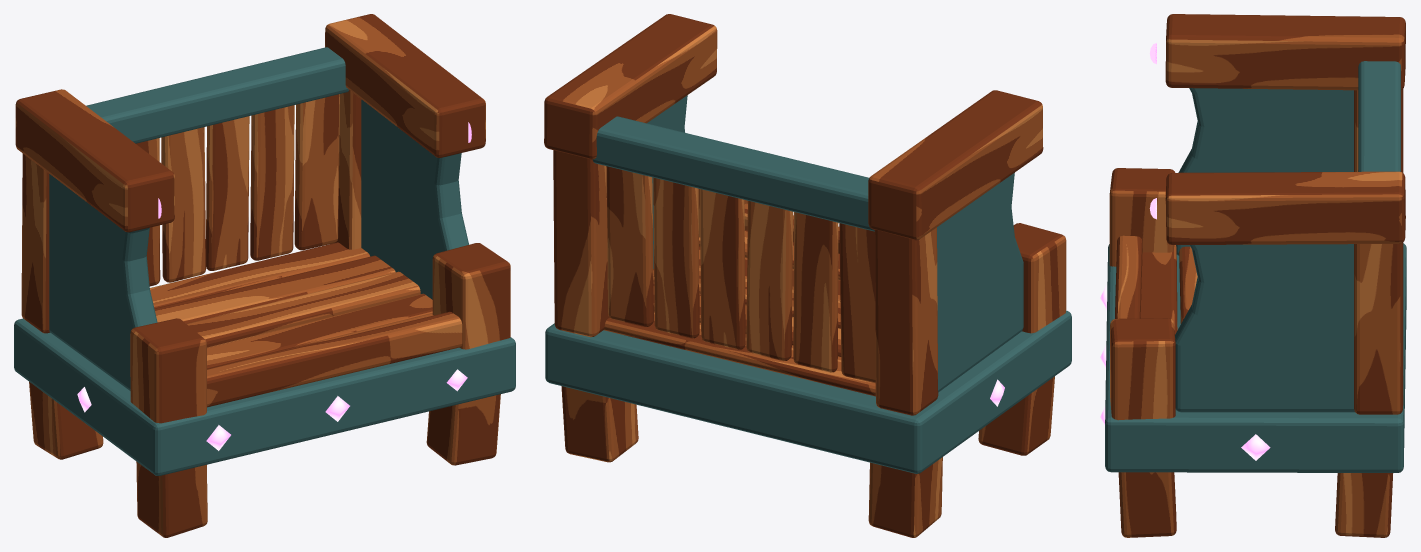
Rendered from prop_basket_stand.fbx.
3 views of the same model, side by side, from view 1: azimuth 30°, elevation 25°; view 2: azimuth 150°, elevation 25°; view 3: azimuth 270°, elevation 25° (orthographic). The views are drawn at different scales.
Parts seen in each view (by area): view 1: BasketStand, BasketStand_Gems; view 2: BasketStand; view 3: BasketStand, BasketStand_Gems.
Part boxes in pixels (x1,y1,x2,y2): BasketStand: (14, 14, 515, 537); BasketStand_Gems: (77, 122, 471, 450); BasketStand: (544, 14, 1071, 537); BasketStand: (1105, 14, 1406, 537); BasketStand_Gems: (1100, 43, 1270, 460).
Bounding box in the file's own units: 1.03 × 0.912 × 0.7185.
